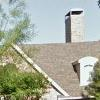Chimney: (57, 3, 90, 46)
